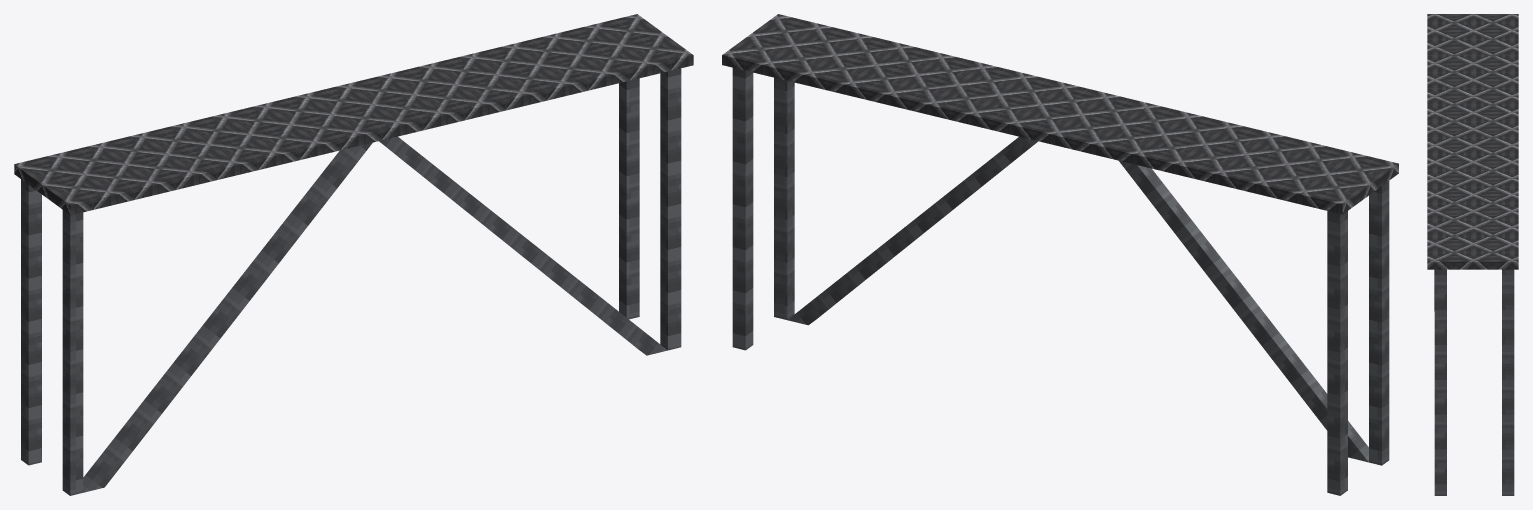
The model's file is Stand.fbx.
3 views of the same model, side by side, from view 1: azimuth 30°, elevation 25°; view 2: azimuth 150°, elevation 25°; view 3: azimuth 270°, elevation 25° (orthographic). The views are drawn at different scales.
Parts seen in each view (by area): view 1: Stand; view 2: Stand; view 3: Stand.
Boxes of the visible parts, bbox=[...] form: Stand: bbox=[14, 14, 693, 495]; Stand: bbox=[722, 14, 1398, 495]; Stand: bbox=[1427, 14, 1518, 495].
Size of the model in its own units: 1512 by 684 by 237.
